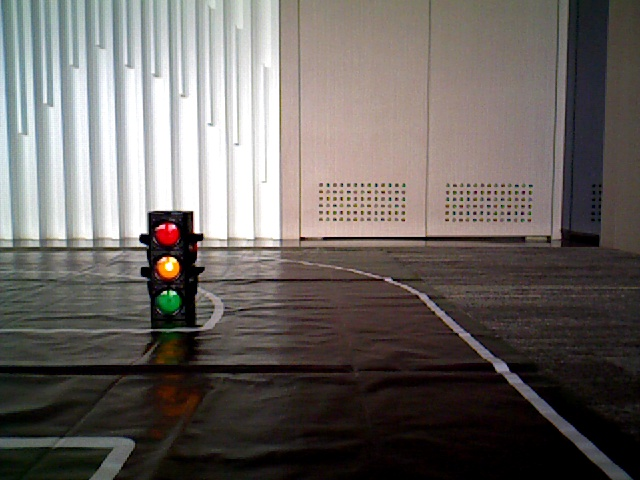yellow: (149, 219, 189, 320)
